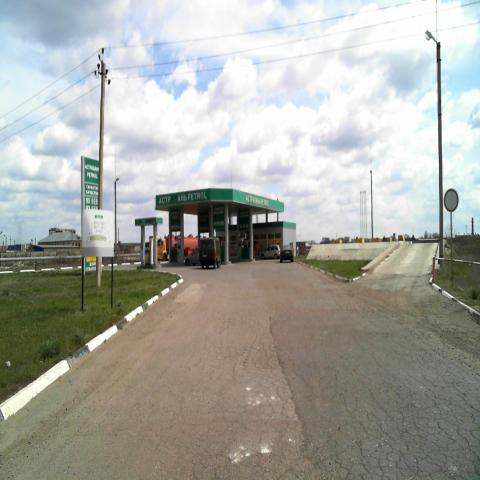3_2: (444, 186, 459, 214)
